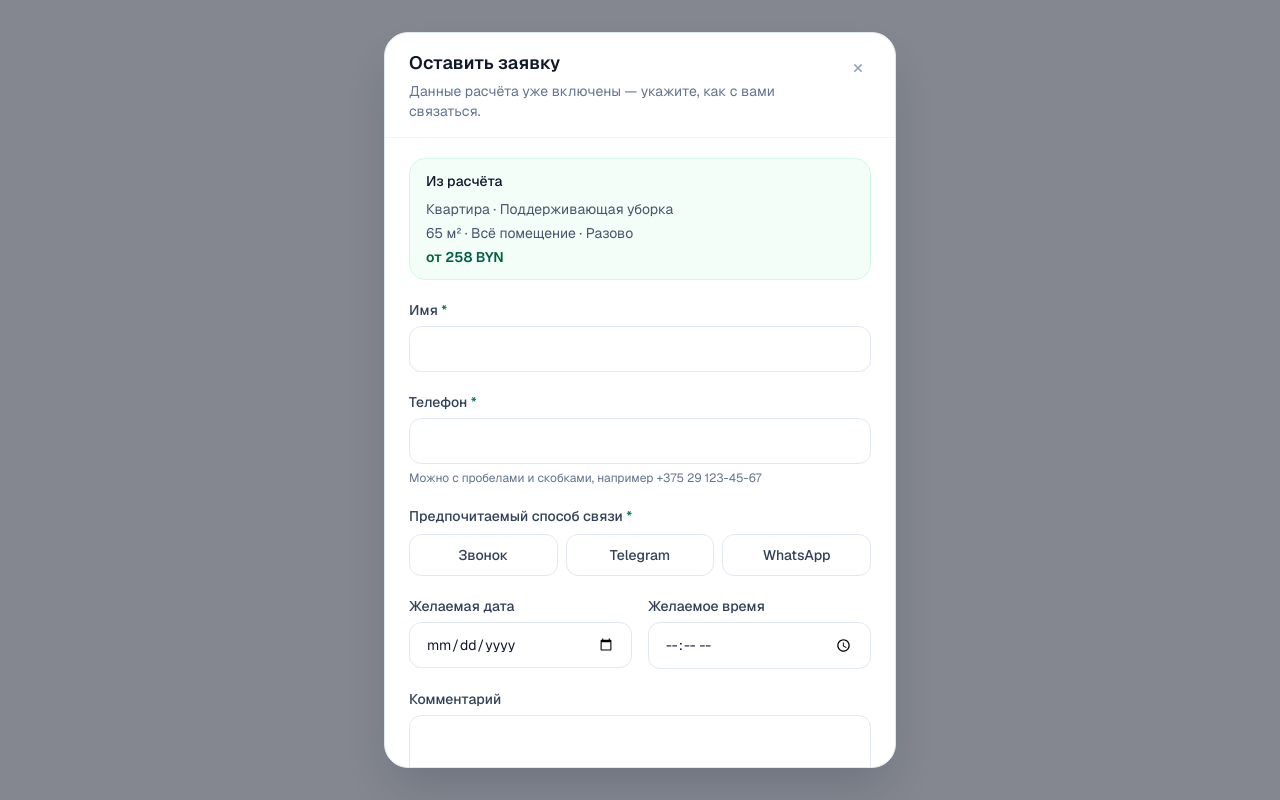
Scenario: RequestQuoteDialog › shows success summary and allows intentional resubmit
This screenshot has width=1280, height=800.
Expected: the form with test id "request-quote-form" is shown, [409,158,871,767]
Type "Анна" into the field labelled "Имя *".
click(640, 349); type("Анна")  # box [409,326,871,372]
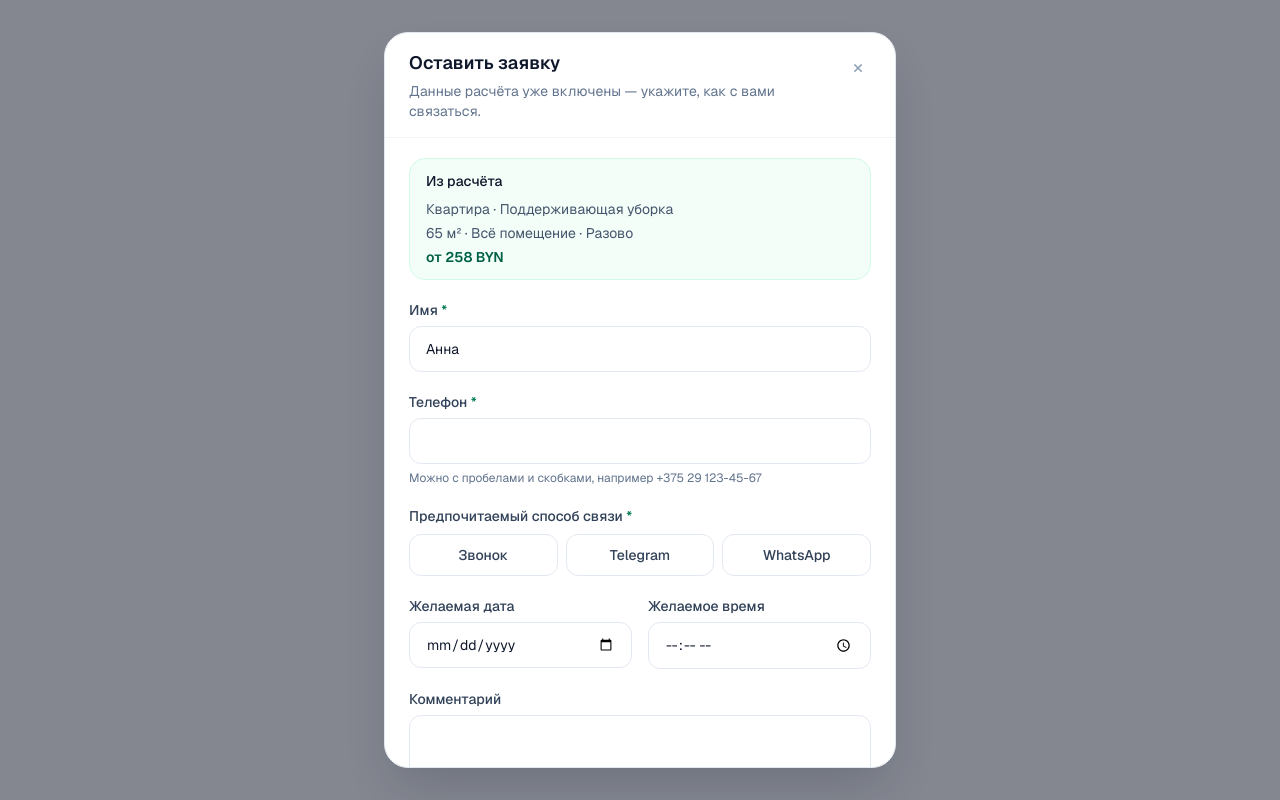
Type "+375291234567" into the field labelled "Телефон *".
click(640, 441); type("+375291234567")  # box [409,418,871,464]
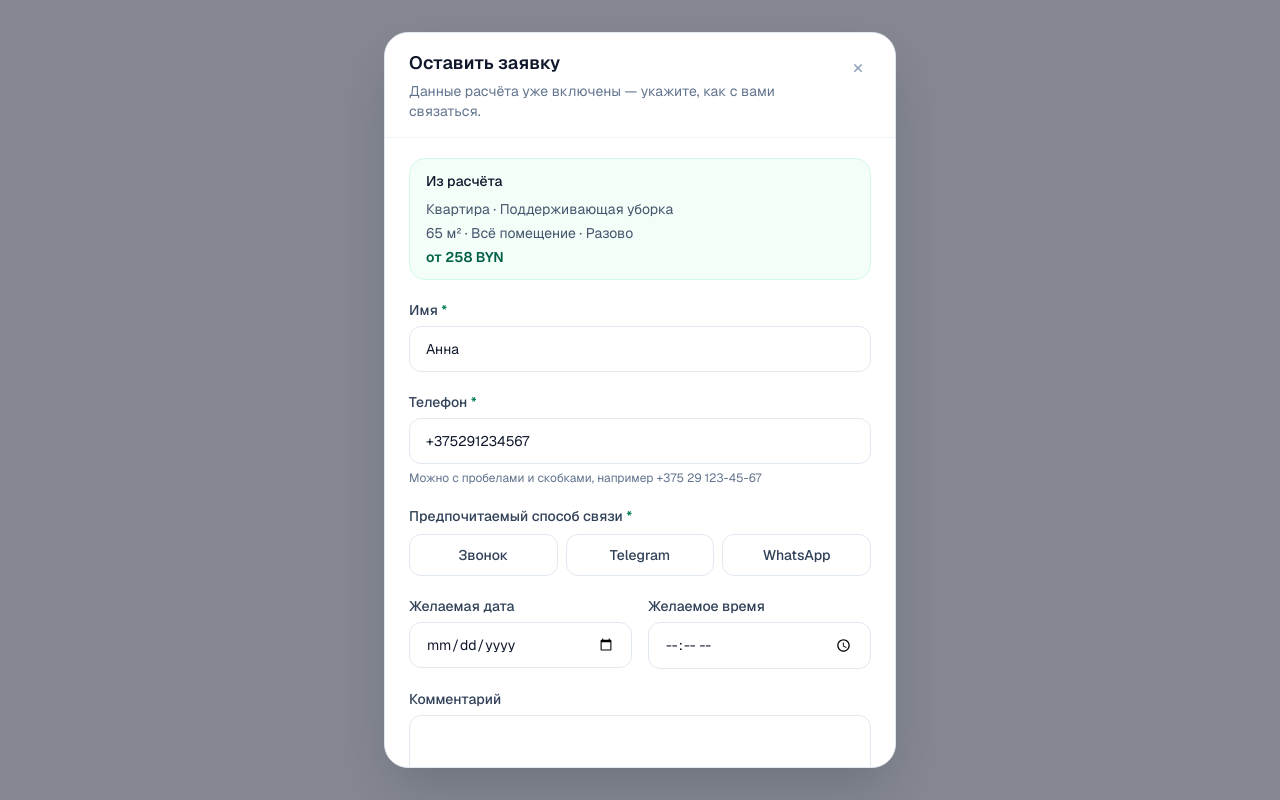
Click the radio button labelled "Telegram".
click(640, 555)  # box [566,534,714,576]
(page scrolled)
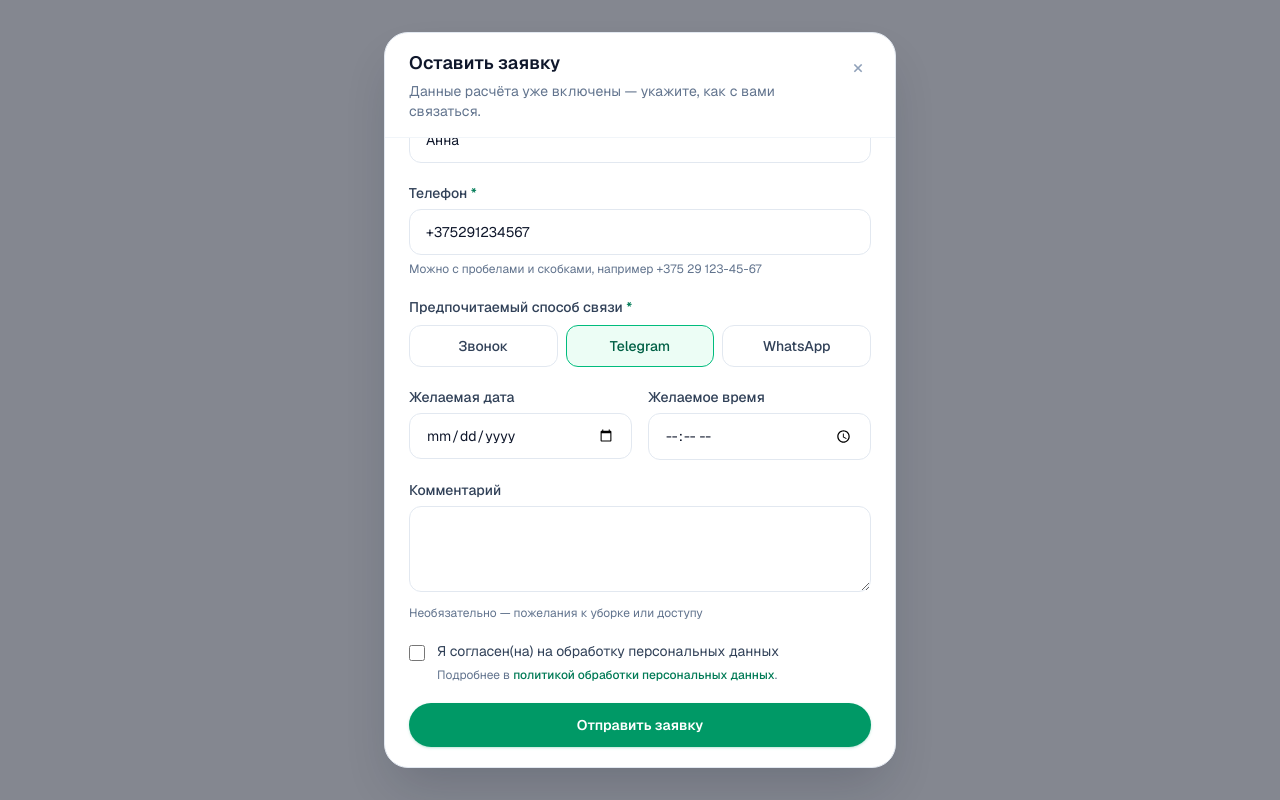
Click the checkbox.
click(417, 653)  # box [409,645,425,661]
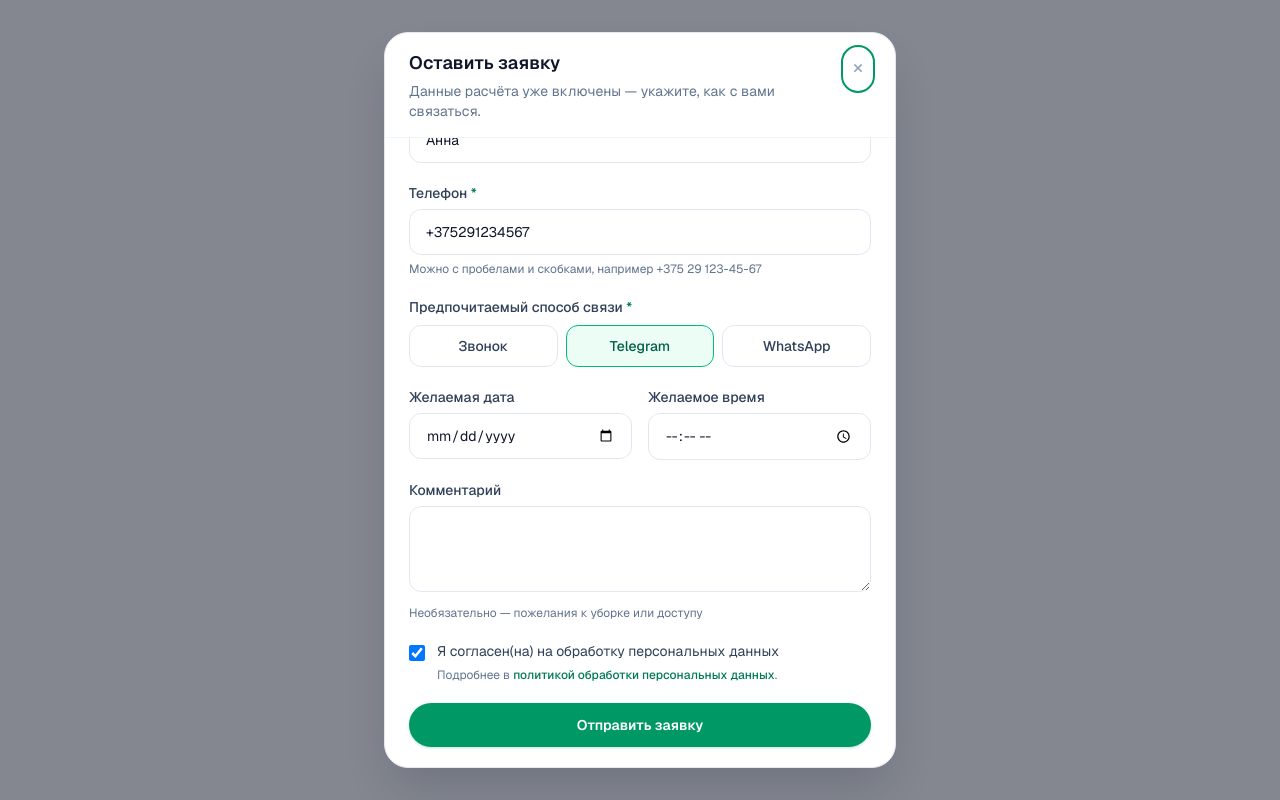
Click the button with test id "request-submit-button".
click(640, 725)  # box [409,703,871,747]
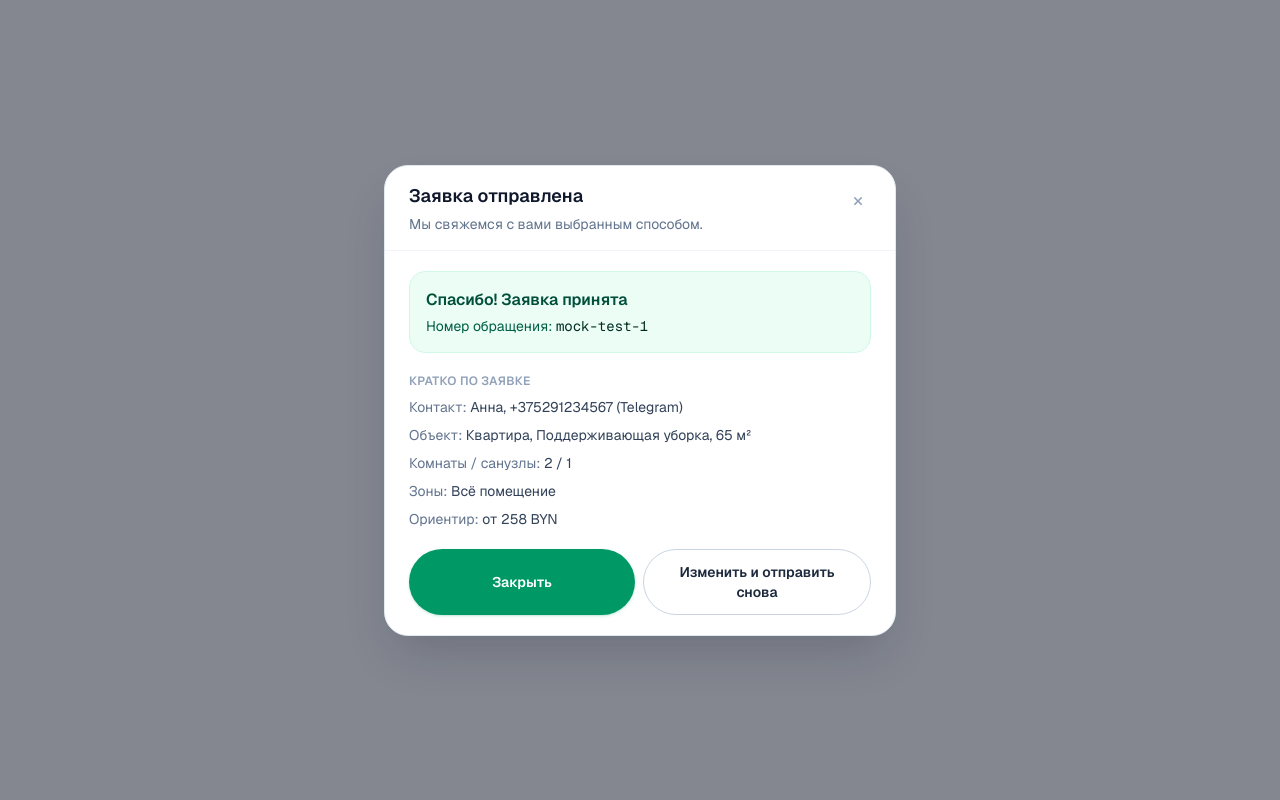
Result: the message with test id "request-success-panel" is shown at [409,270,871,614]
Result: the text "Спасибо! Заявка принята" is shown at [426,288,628,310]
Result: the text "mock-test-1" is shown at [556,316,648,334]
Click the button with test id "request-edit-again".
click(757, 582)  # box [643,548,871,614]
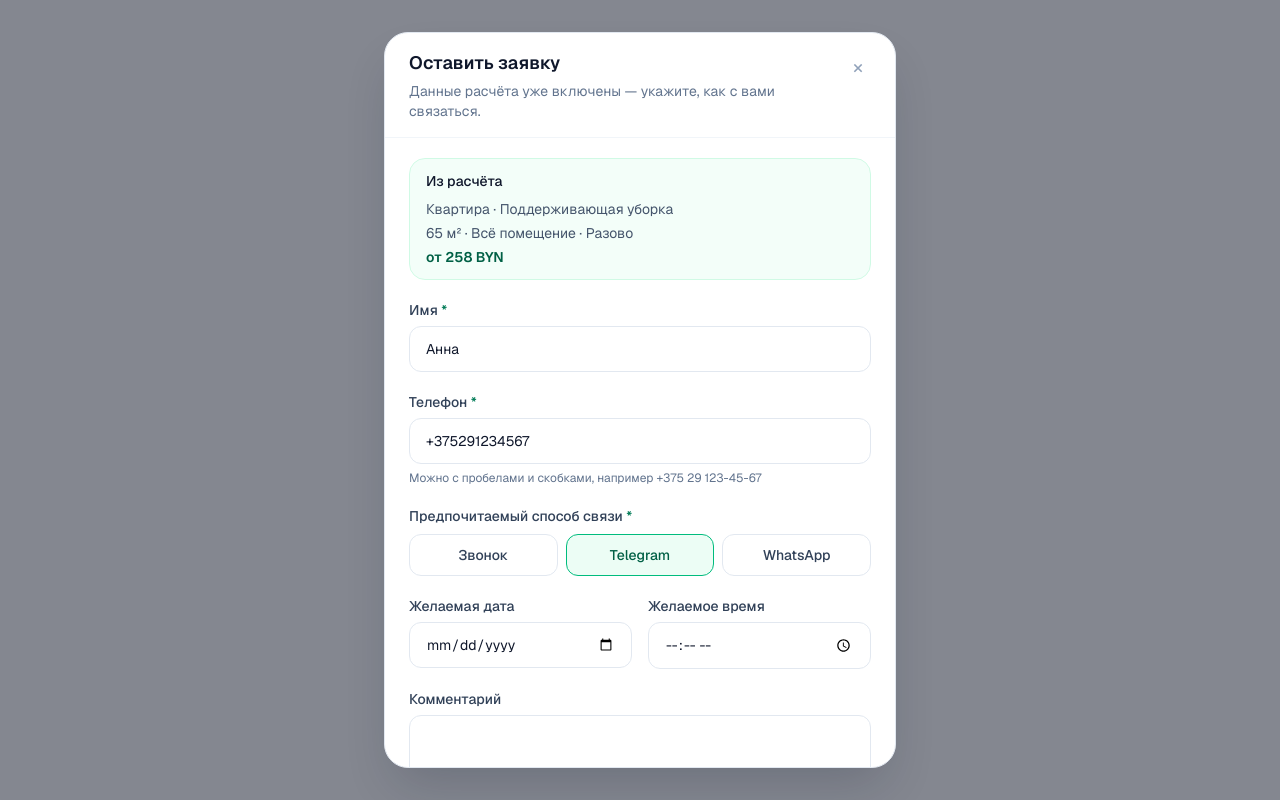
Result: the form with test id "request-quote-form" is shown at [409,158,871,767]
Result: the field labelled "Имя *" holds "Анна" at [409,326,871,372]
